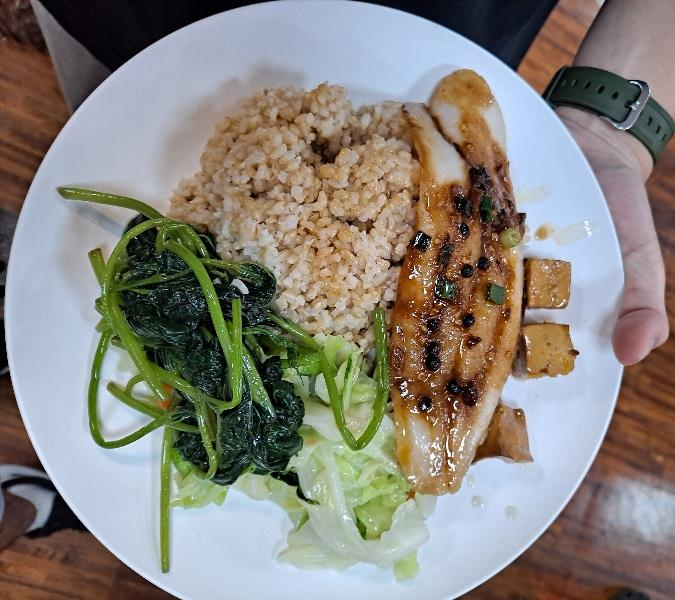big fried chicken leg: (13, 12, 640, 599)
box: (220, 90, 416, 312)
braised fish fillet: (84, 205, 293, 485), (289, 353, 396, 565), (521, 244, 582, 389)
braised pork ribs: (406, 63, 522, 483)
